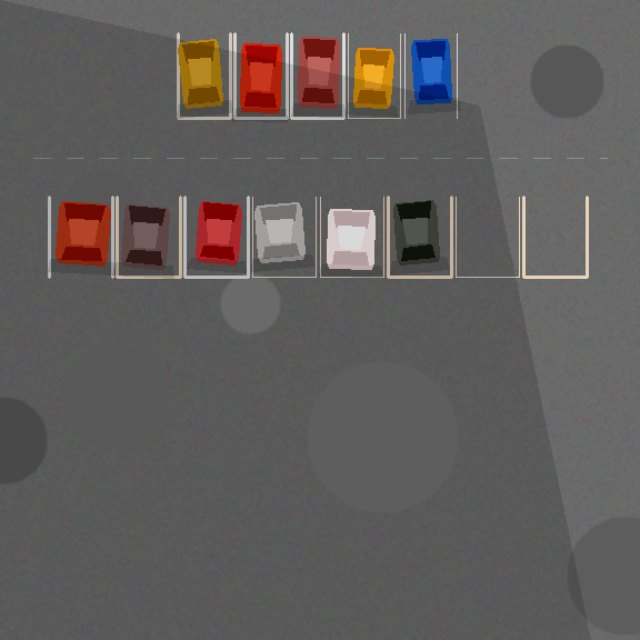space-empty: (523, 197, 587, 277), (456, 197, 519, 277)
space-occupied: (184, 197, 248, 277), (252, 197, 316, 277), (49, 197, 112, 277), (117, 197, 180, 277), (320, 197, 383, 277), (388, 197, 451, 277), (234, 33, 287, 118), (404, 33, 457, 118), (178, 33, 230, 118), (291, 33, 343, 118), (348, 33, 400, 118)
